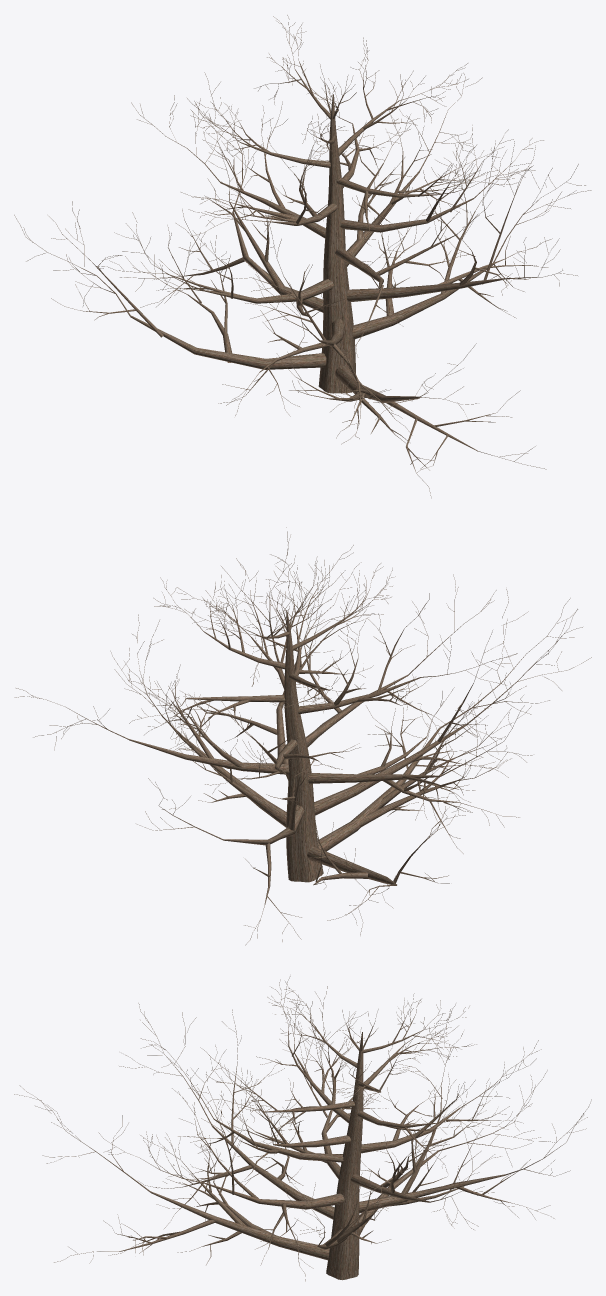
Rendered from crown_lod_3.glb.
3 views of the same model, one above another, from view 1: azimuth 30°, elevation 25°; view 2: azimuth 150°, elevation 25°; view 3: azimuth 270°, elevation 25° (orthographic). The views are drawn at different scales.
Size of the model in its own units: 11.02 by 7.48 by 14.01.
Materials: 1 (1 with a texture image).
